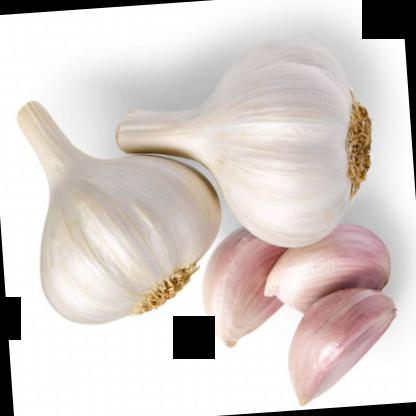garlic: (114, 34, 376, 257), (17, 86, 230, 328), (280, 290, 402, 406), (196, 220, 302, 347), (258, 224, 394, 314)
